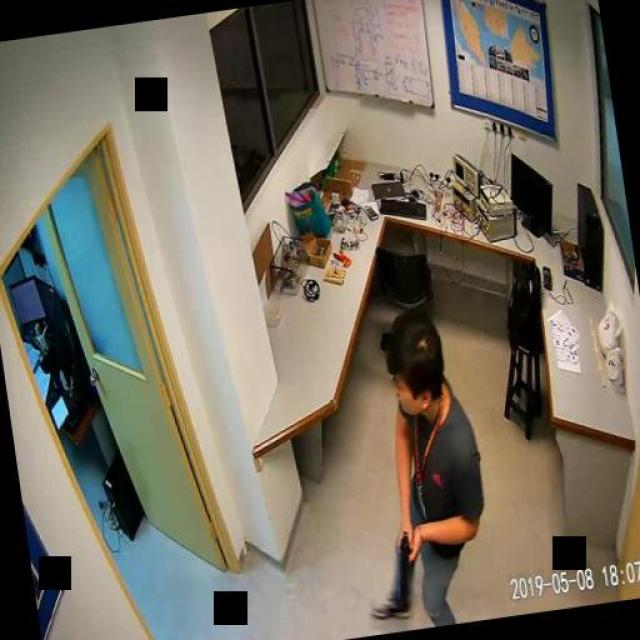gun: (390, 529, 416, 600)
